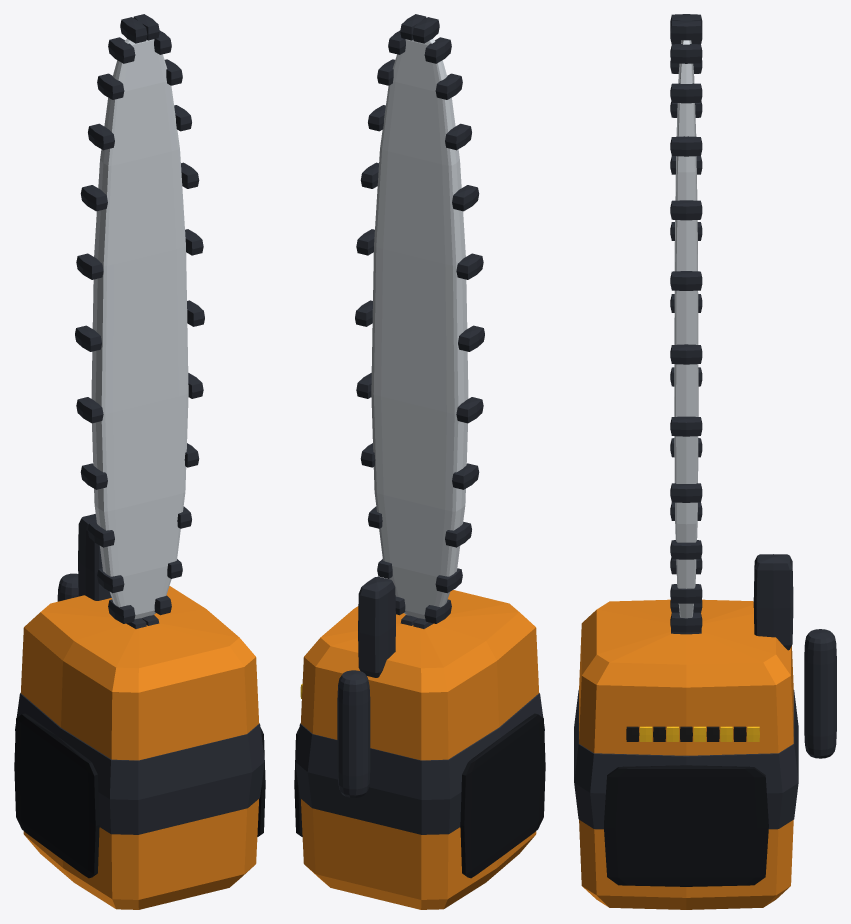
The model's file is m-chainsaw.glb.
The picture shows the model from 3 angles, left to right: view 1: azimuth 30°, elevation 25°; view 2: azimuth 150°, elevation 25°; view 3: azimuth 270°, elevation 25°; orthographic projection.
Parts seen in each view (by area): view 1: melee; view 2: melee; view 3: melee.
Part boxes in pixels (x1,y1,x2,y2): melee: (14,14,265,909); melee: (294,14,545,909); melee: (574,14,836,909).
Size of the model in its own units: 0.6 by 2.84 by 0.7831.
